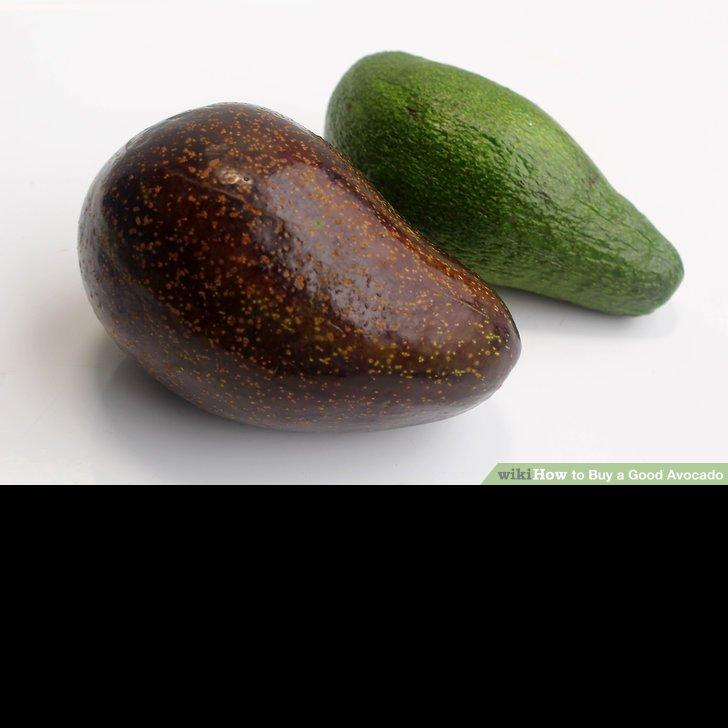ripe: (77, 103, 521, 432)
unripe: (326, 51, 683, 318)
